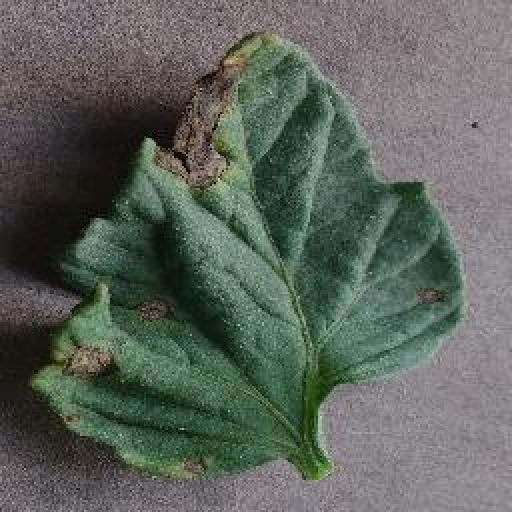Early Blight: (29, 28, 468, 485)
